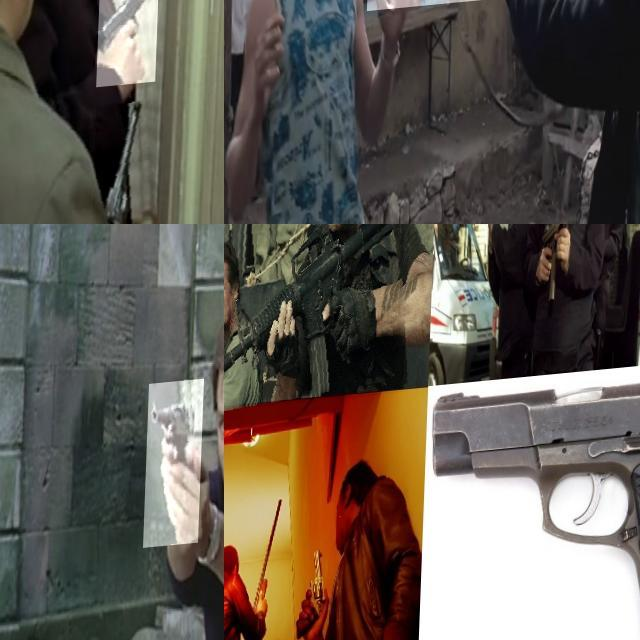gun-knife-thesis - v11 Yolov5 augmented: (423, 369, 640, 640), (224, 224, 411, 415), (369, 0, 640, 80), (146, 384, 206, 552), (95, 108, 164, 224), (99, 0, 161, 95), (532, 224, 582, 318), (298, 551, 336, 640), (224, 367, 267, 416)
